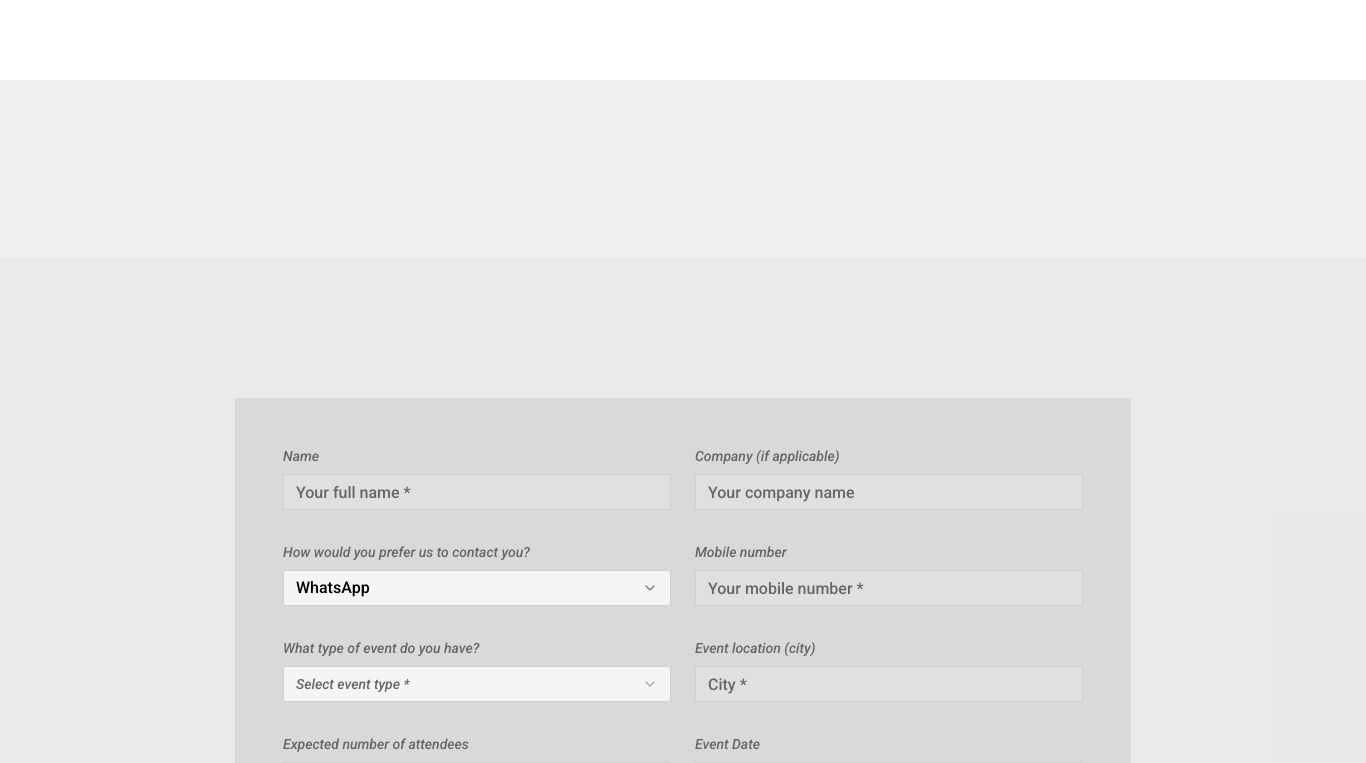
Test case: ContactForm Component › Keyboard Navigation › supports arrow key navigation in select dropdown
Click the dropdown labelled "Select event type *".
click(353, 684)  # box [283, 666, 671, 702]
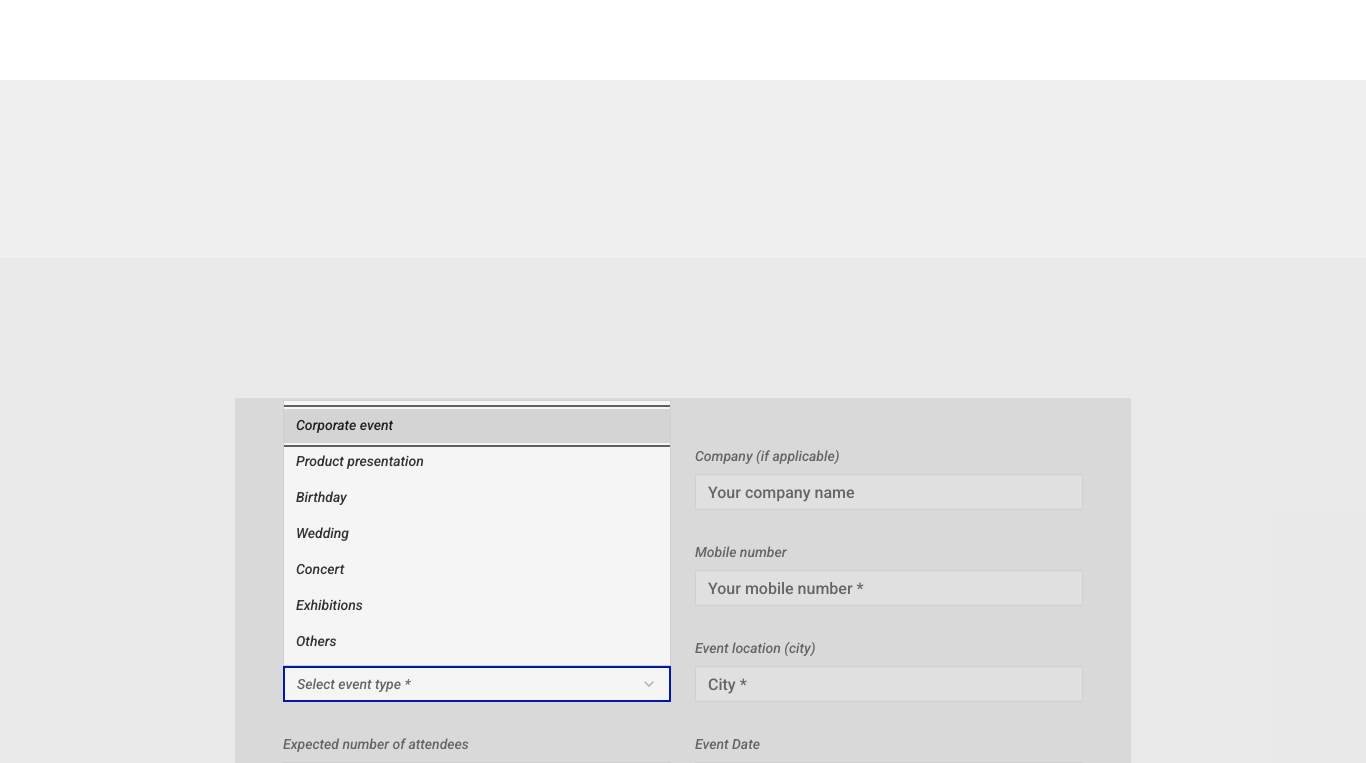
Expected: the text "Corporate event" is shown, [296, 415, 393, 435]
